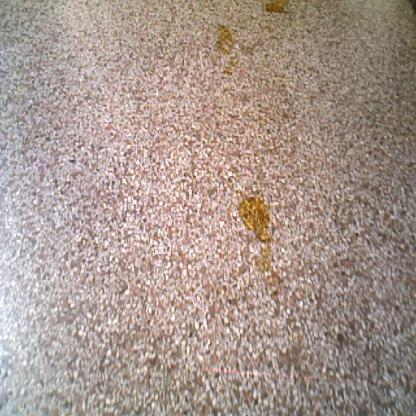liquid: (236, 195, 272, 244), (254, 245, 279, 285), (212, 25, 233, 56), (264, 1, 290, 14), (222, 57, 237, 76)
